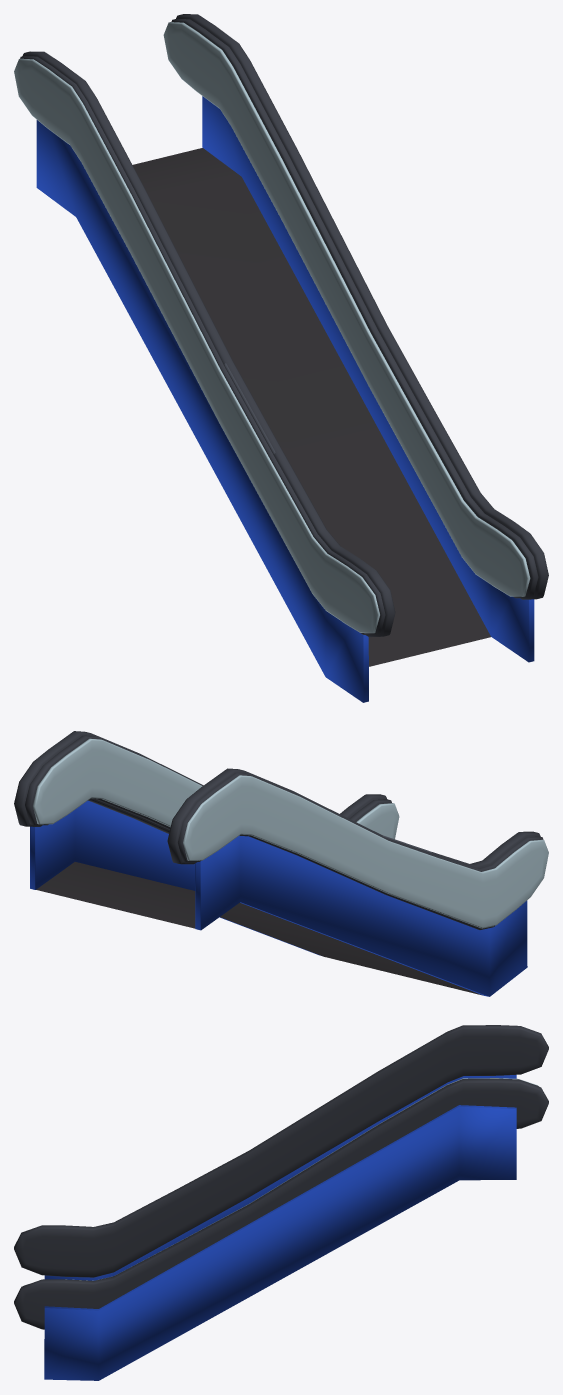
Rendered from Small_Escalator.fbx.
The picture shows the model from 3 angles, top to bottom: view 1: azimuth 30°, elevation 25°; view 2: azimuth 150°, elevation 25°; view 3: azimuth 270°, elevation 25°; orthographic projection. The views are drawn at different scales.
Visible parts, largest first — view 1: Small_Escalator; view 2: Small_Escalator; view 3: Small_Escalator.
Boxes of the visible parts, x1,y1,x2,y2 form: Small_Escalator: (14,14,548,702); Small_Escalator: (14,731,548,996); Small_Escalator: (14,1025,548,1380).
Bounding box in the file's own units: 3.93 × 8.83 × 14.4.
